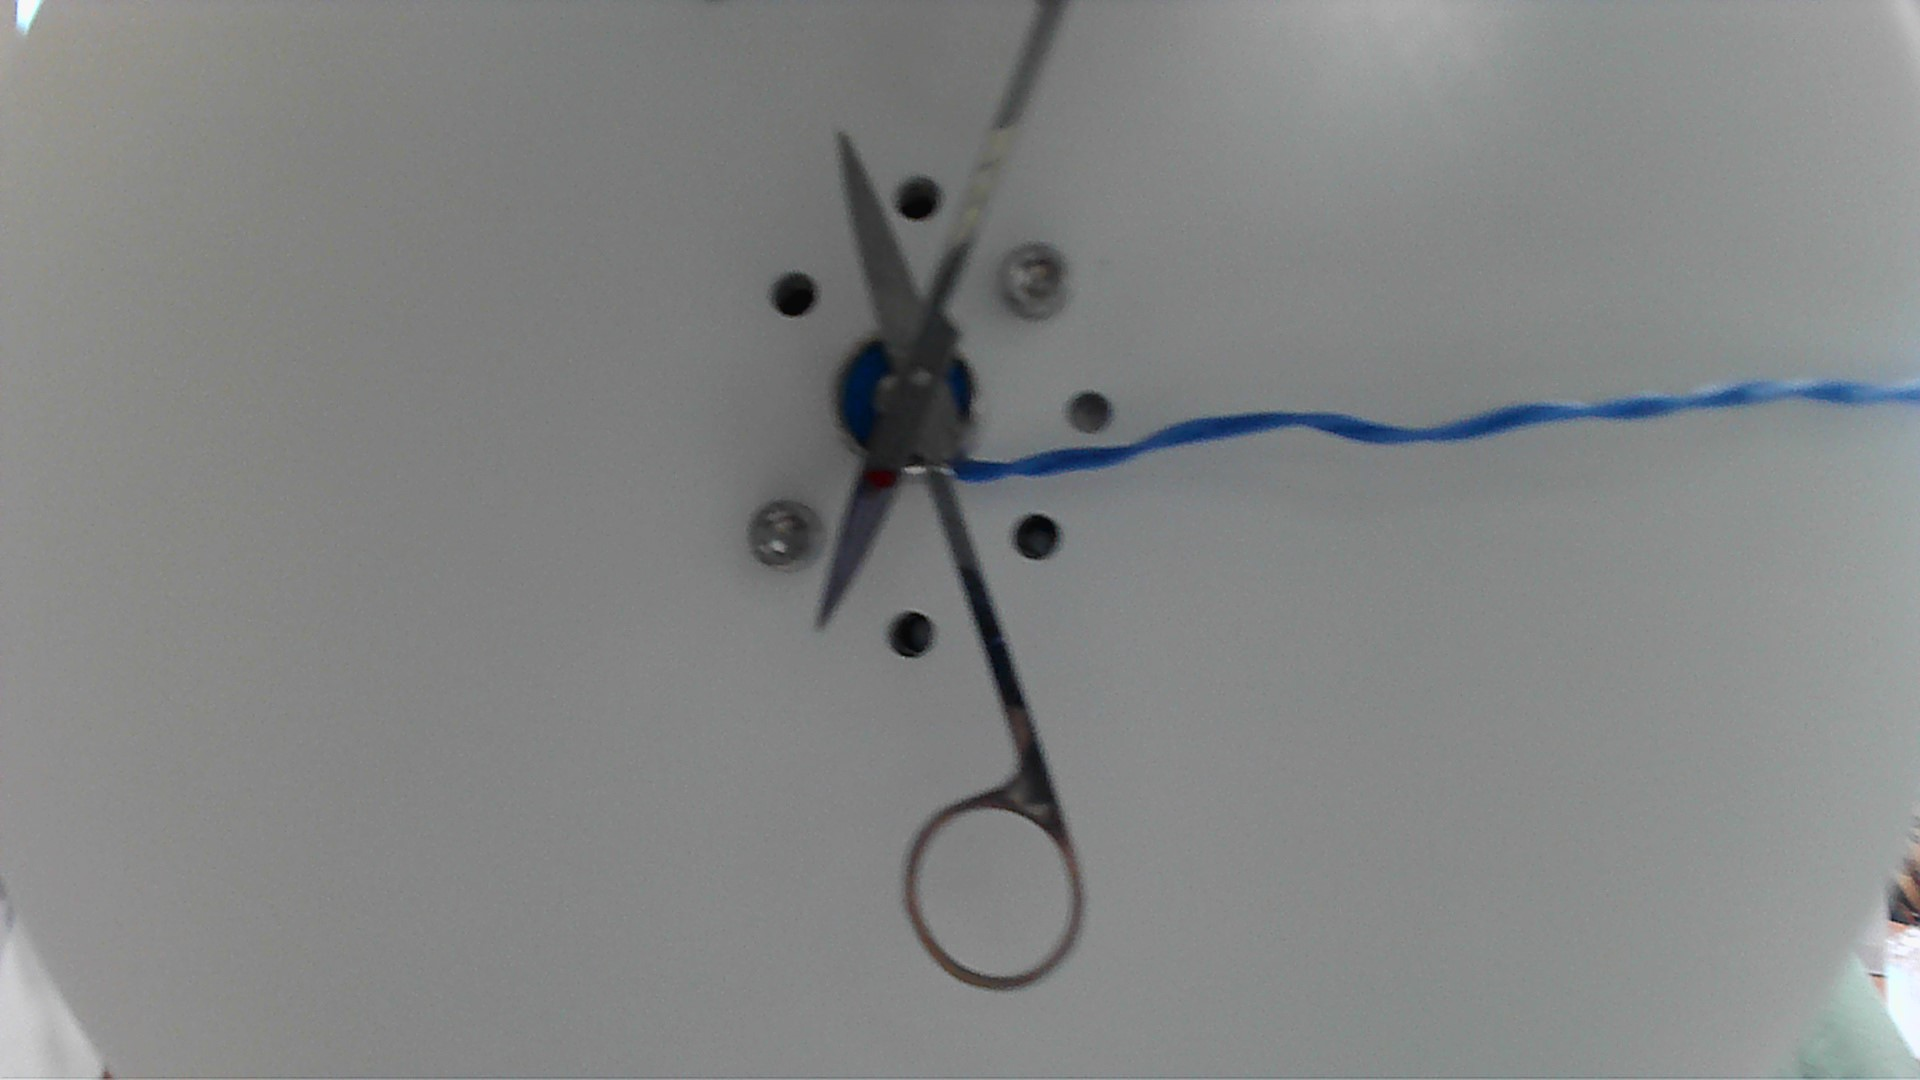Stain: (858, 462, 901, 493)
